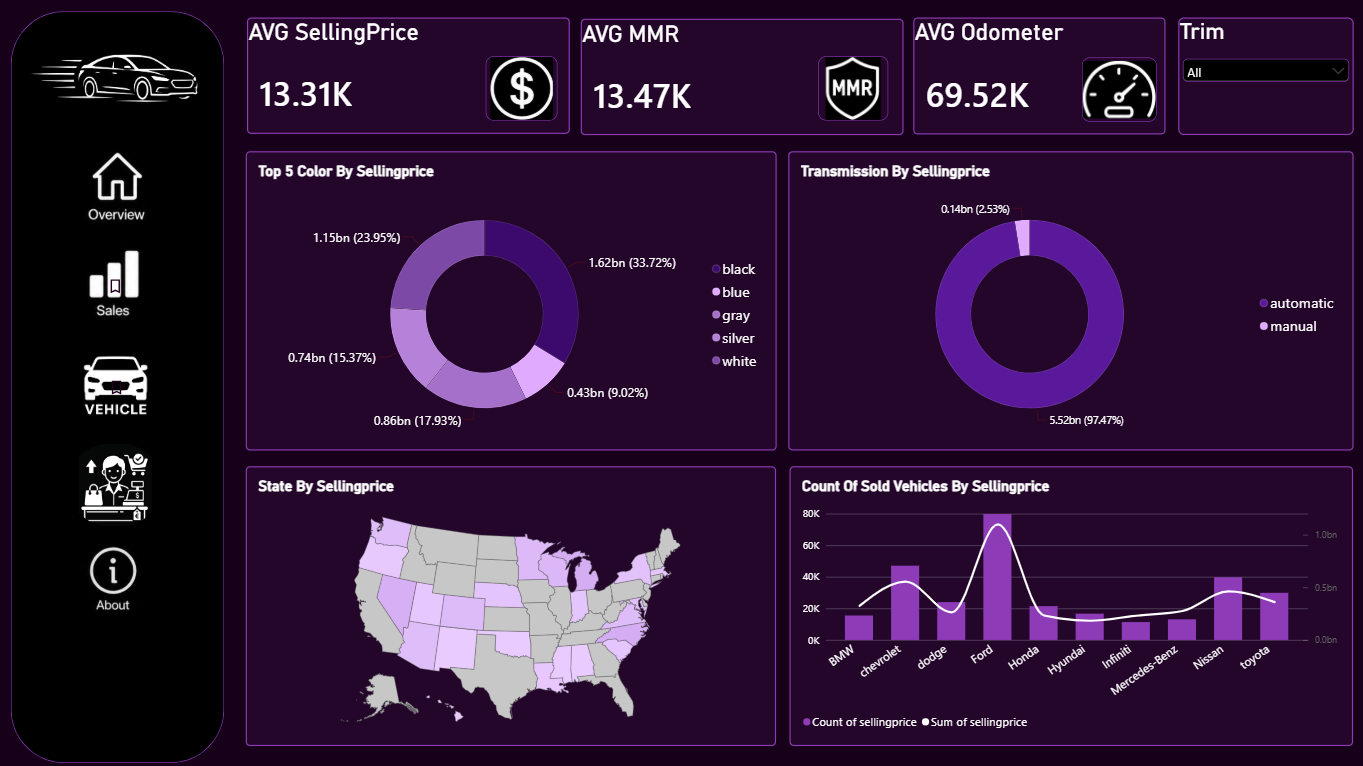

What the dashboard file says about the page in this screenshot:
{"tool":"powerbi","page":{"name":"Vehicle ","canvas":[1920,1080],"ordinal":2},"visuals":[{"type":"shape","box":[19.1,14.9,297.9,1048.9],"z":0},{"type":"image","box":[32.3,42.1,272,126],"z":1000},{"type":"image","box":[110.6,206.4,126,110],"z":3000},{"type":"image","box":[100,336.2,130,124],"z":4000},{"type":"actionButton","box":[108.5,204.3,112.7,112.7],"z":5000},{"type":"actionButton","box":[114.9,334,100,128.3],"z":6000},{"type":"cardVisual","title":"AVG SellingPrice","fields":{"Data":["Avg(Fact_Car_Sales.sellingprice)"]},"box":[348.1,25,450.8,162.8],"z":7000},{"type":"cardVisual","title":"AVG Odometer","fields":{"Data":["Avg(Fact_Car_Sales.odometer)"]},"box":[1278.8,25,351.9,163.5],"z":8000},{"type":"donutChart","title":"Top 5 Color By Sellingprice ","fields":{"Category":["Dim_Car.color"],"Y":["Sum(Fact_Car_Sales.sellingprice)"]},"box":[346.8,210.6,740.9,417.4],"z":9000},{"type":"donutChart","title":"Transmission By Sellingprice ","fields":{"Category":["Dim_Car.transmission"],"Y":["Sum(Fact_Car_Sales.sellingprice)"]},"box":[1103.8,211.5,788.5,417.3],"z":10000},{"type":"shapeMap","title":" State By Sellingprice ","fields":{"Category":["Dim_Location.state"],"Value":["Sum(Fact_Car_Sales.sellingprice)"]},"box":[347.5,650,740,390],"z":11000},{"type":"cardVisual","title":"AVG MMR","fields":{"Data":["Avg(Fact_Car_Sales.mmr)"]},"box":[815.4,26.9,450.8,162.8],"z":12000},{"type":"image","box":[80.9,491.5,170.2,97.9],"z":13000},{"type":"actionButton","box":[117,476.6,100,128.3],"z":14000},{"type":"image","box":[1146.2,78.8,97.9,89.4],"z":15000},{"type":"image","box":[1513.5,80.8,104.3,89.4],"z":16000},{"type":"image","box":[682.7,78.8,100,89.4],"z":17000},{"type":"lineStackedColumnComboChart","title":"Count Of Sold Vehicles By Sellingprice ","fields":{"Category":["Dim_Car.make"],"Y":["CountNonNull(Fact_Car_Sales.sellingprice)"],"Y2":["Sum(Fact_Car_Sales.sellingprice)"]},"box":[1105.8,650,786.5,390.4],"z":18001},{"type":"image","box":[92.3,759.6,148,104],"z":18002},{"type":"image","box":[100,619.2,130.8,115.4],"z":18003},{"type":"actionButton","box":[107.7,750,112.7,112.7],"z":18004},{"type":"actionButton","box":[111.5,621.2,113.5,113.5],"z":18005},{"type":"slicer","title":" Trim","fields":{"Values":["Dim_Car.trim"]},"box":[1648.1,25,244.7,163.8],"z":18006}]}

Visuals, with their boxes in screenshot pixels (x1, y1, x2, y2), scaled from the page's 1920x1080 canvas onto the 1363x766 screenshot:
shape: bbox(14, 11, 225, 755)
image: bbox(23, 30, 216, 119)
image: bbox(79, 146, 168, 224)
image: bbox(71, 238, 163, 326)
actionButton: bbox(77, 145, 157, 225)
actionButton: bbox(82, 237, 153, 328)
"AVG SellingPrice" cardVisual: bbox(247, 18, 567, 133)
"AVG Odometer" cardVisual: bbox(908, 18, 1158, 134)
"Top 5 Color By Sellingprice " donutChart: bbox(246, 149, 772, 445)
"Transmission By Sellingprice " donutChart: bbox(784, 150, 1343, 446)
" State By Sellingprice " shapeMap: bbox(247, 461, 772, 738)
"AVG MMR" cardVisual: bbox(579, 19, 899, 135)
image: bbox(57, 349, 178, 418)
actionButton: bbox(83, 338, 154, 429)
image: bbox(814, 56, 883, 119)
image: bbox(1074, 57, 1148, 121)
image: bbox(485, 56, 556, 119)
"Count Of Sold Vehicles By Sellingprice " lineStackedColumnComboChart: bbox(785, 461, 1343, 738)
image: bbox(66, 539, 171, 613)
image: bbox(71, 439, 164, 521)
actionButton: bbox(76, 532, 156, 612)
actionButton: bbox(79, 441, 160, 521)
" Trim" slicer: bbox(1170, 18, 1344, 134)
